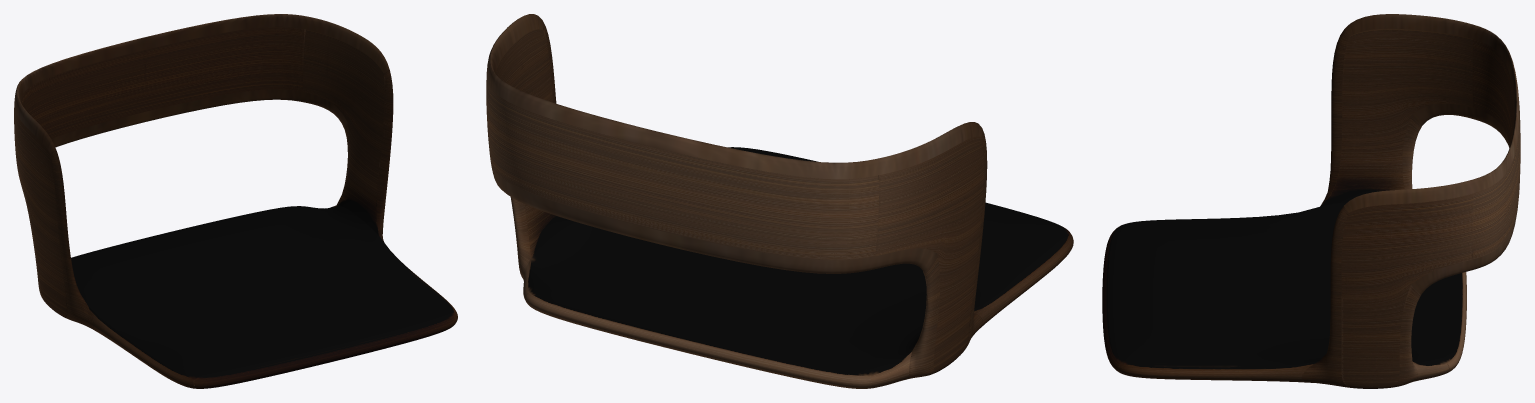
The picture shows the model from 3 angles, left to right: view 1: azimuth 30°, elevation 25°; view 2: azimuth 150°, elevation 25°; view 3: azimuth 270°, elevation 25°; orthographic projection. The views are drawn at different scales.
Visible parts, largest first — view 1: Room; view 2: Room; view 3: Room.
Boxes of the visible parts, x1,y1,x2,y2 form: Room: (14, 14, 457, 388); Room: (486, 14, 1073, 388); Room: (1102, 14, 1520, 388).
Size of the model in its own units: 5 by 2.68 by 4.9.
1 material, 1 textured.
